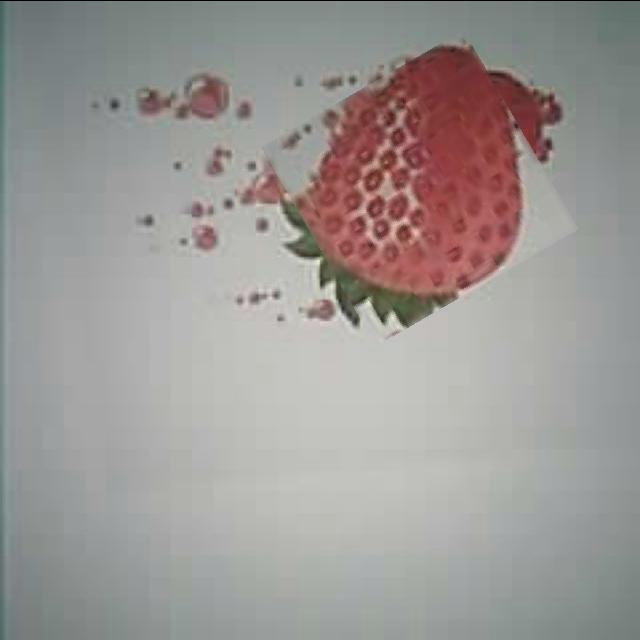strawberry: (282, 50, 558, 324)
